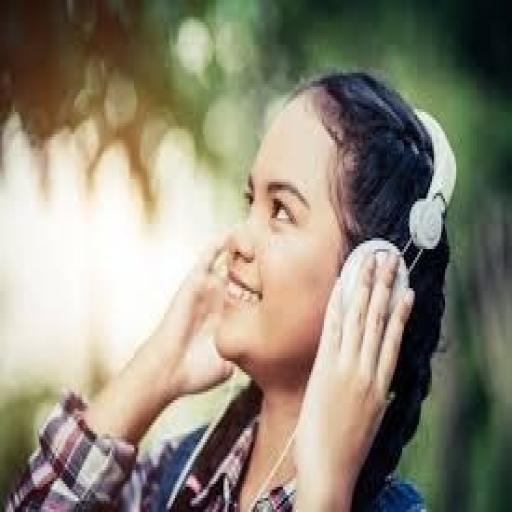listening_to_music: (2, 64, 454, 510)
